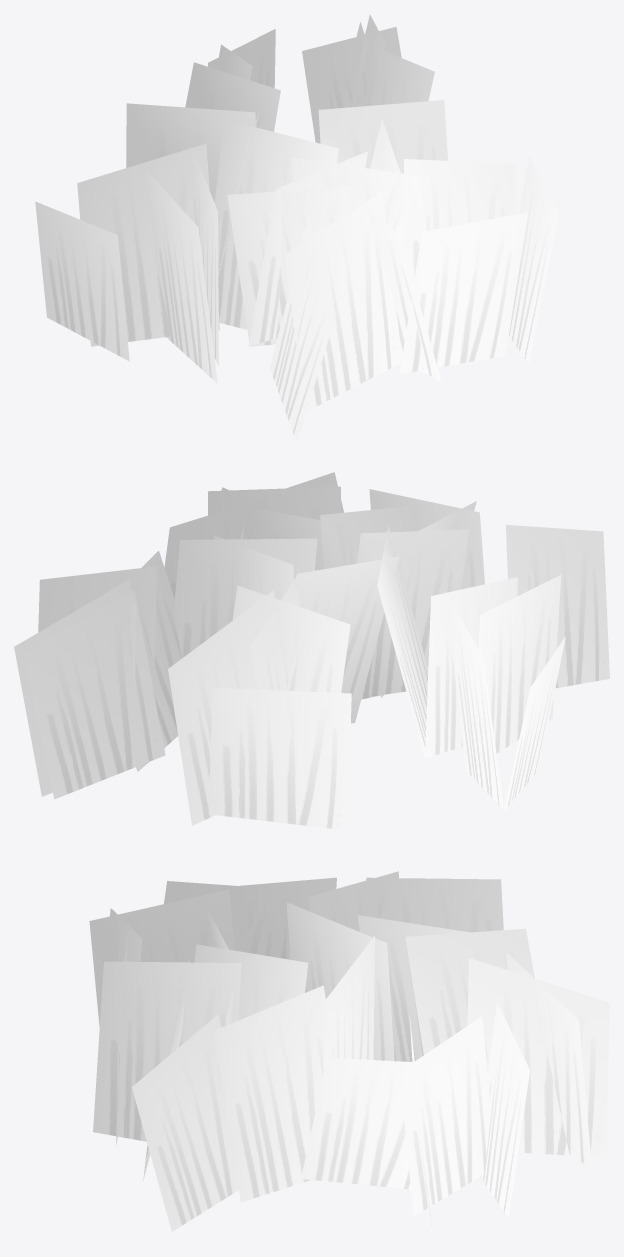
Rendered from grass.glb.
3 renders of one model, top to bottom at view 1: azimuth 30°, elevation 25°; view 2: azimuth 150°, elevation 25°; view 3: azimuth 270°, elevation 25°, orthographic. The views are drawn at different scales.
Visible parts, largest first — view 1: grass(Clone); view 2: grass(Clone); view 3: grass(Clone).
Boxes of the visible parts, left/top/right/bottom form: grass(Clone): left=35, top=15, right=558, bottom=443; grass(Clone): left=14, top=472, right=609, bottom=830; grass(Clone): left=89, top=871, right=609, bottom=1239.
Size of the model in its own units: 1.78 by 0.6935 by 1.89.
1 material, 1 textured.
